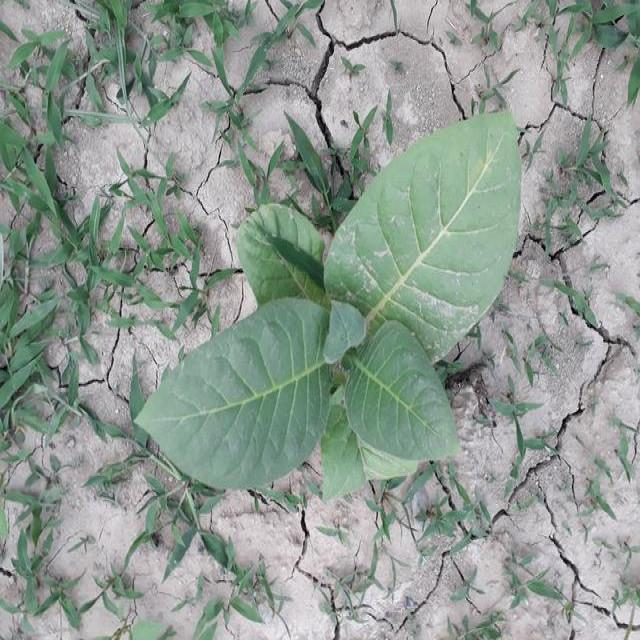crop: (130, 102, 527, 509)
